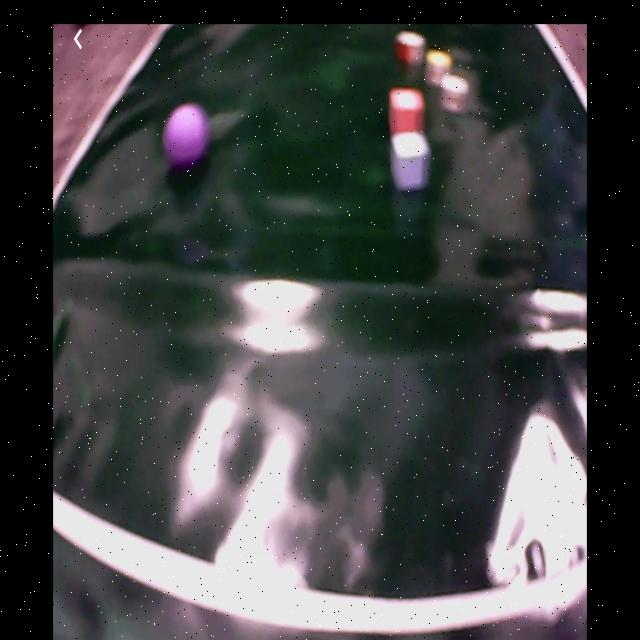ball: (165, 106, 209, 162)
